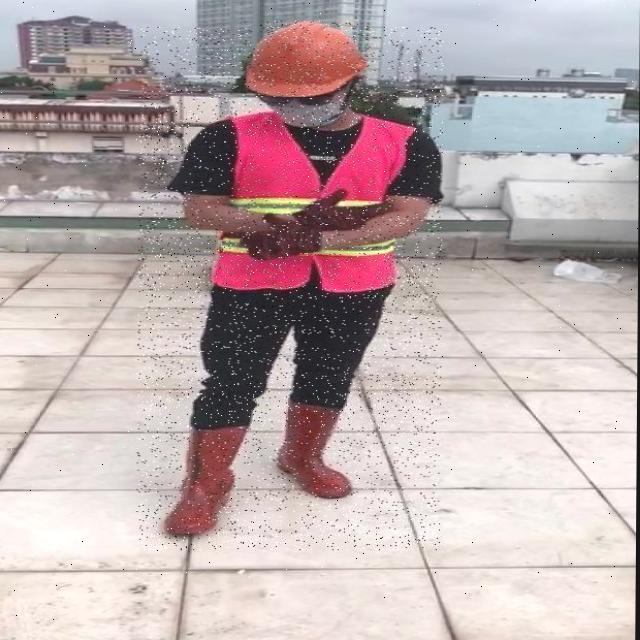Gloves: (242, 212, 323, 261)
Safety-Boot: (165, 422, 249, 536), (278, 397, 355, 499)
Safety-Vest: (211, 111, 418, 293)
